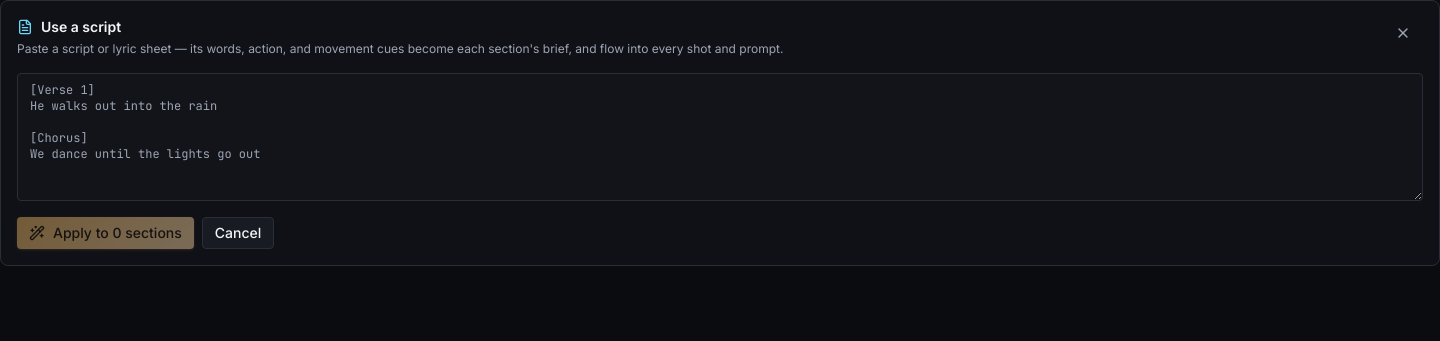
Test: ScriptAlignPanel › says so when the script has no section markers to line up
The width and height of the screenshot is (1440, 341).
Step 1. Click the text box → click(720, 137), box [17, 73, 1423, 201]
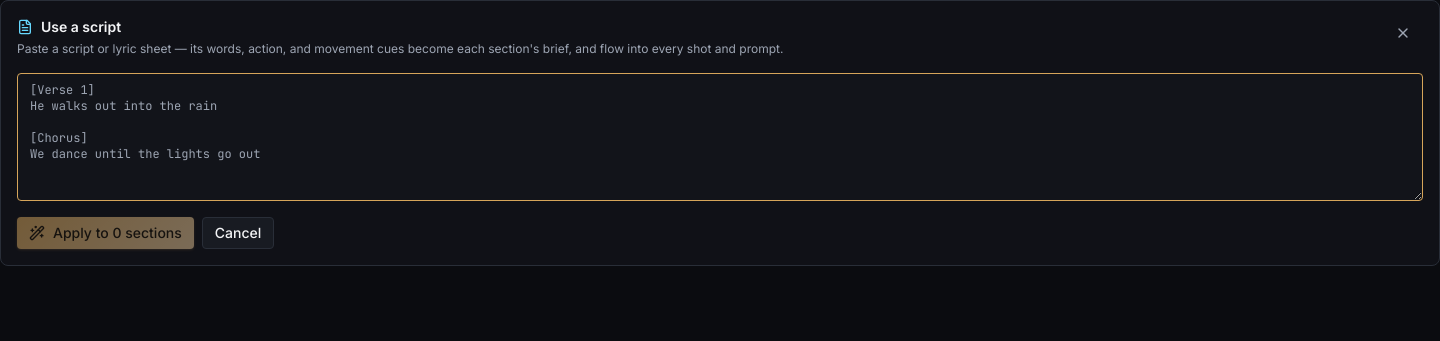
Step 2. Type keys "just some prose with no markers at all"
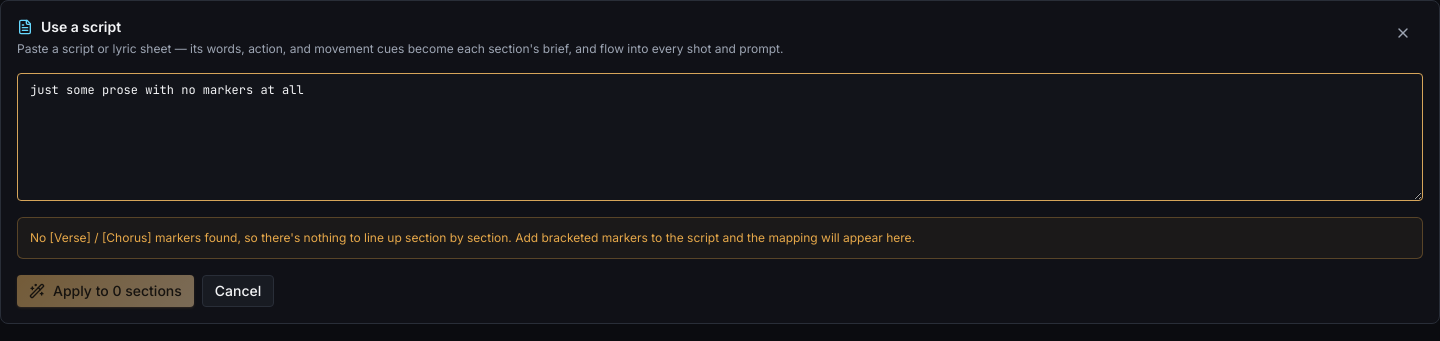
Check: the text "No [Verse] / [Chorus] markers found" is shown, box [30, 230, 915, 245]
